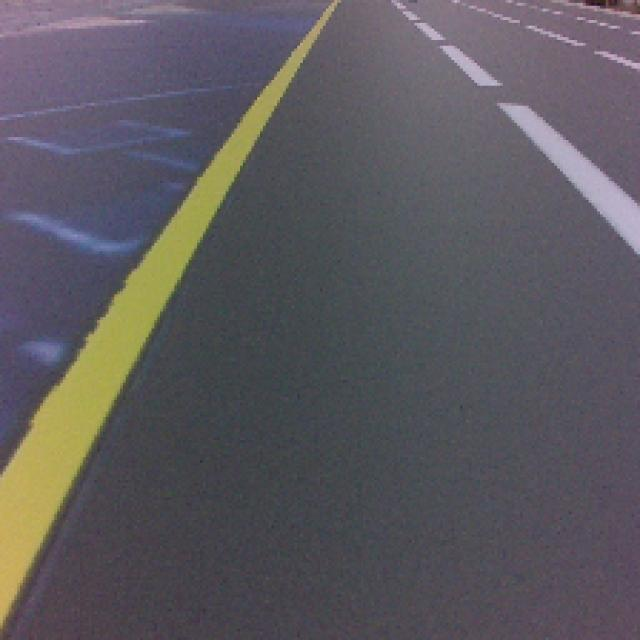Road: (1, 227, 640, 640)
